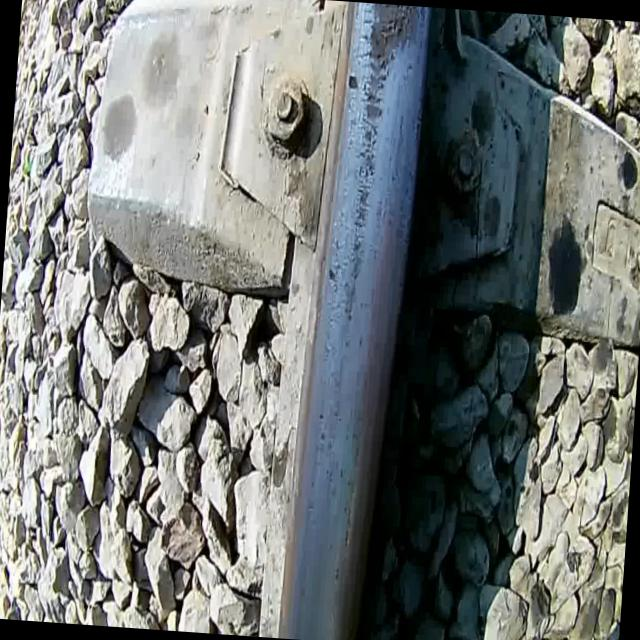Squats: (354, 2, 424, 128)
